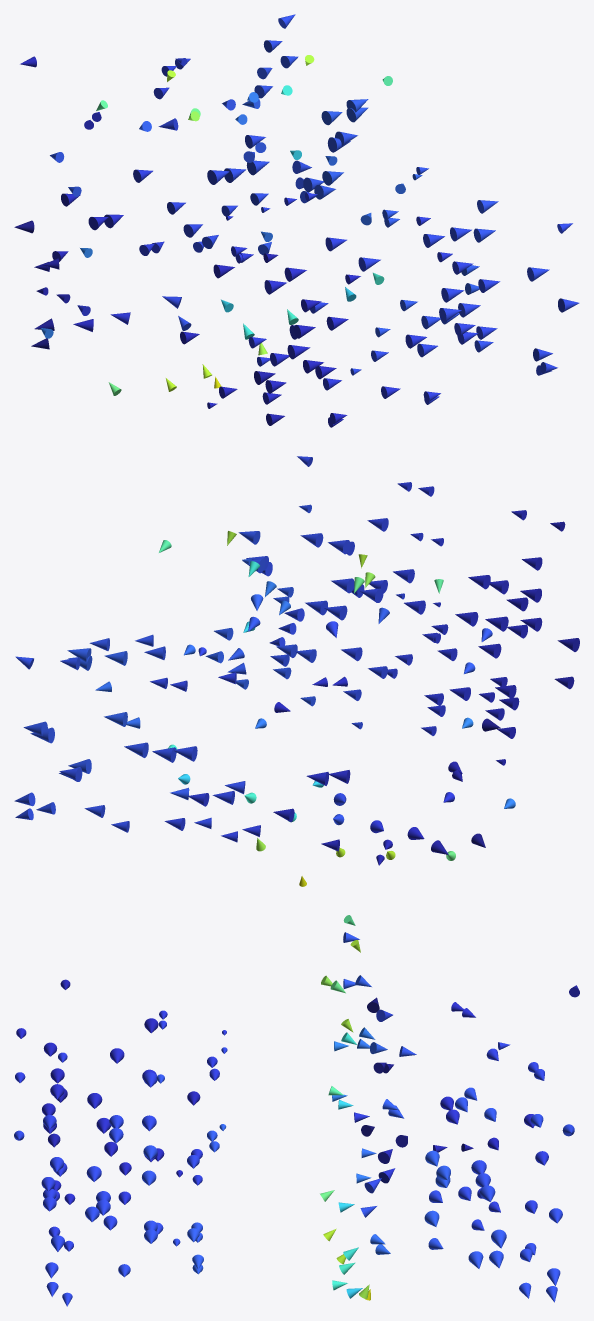
Rendered from LineasCorrienteN2-H2O_mh2-8.20_V-1.1.glb.
3 renders of one model, top to bottom at view 1: azimuth 30°, elevation 25°; view 2: azimuth 150°, elevation 25°; view 3: azimuth 270°, elevation 25°, orthographic. The views are drawn at different scales.
Bounding box in the file's own units: 0.00101 × 0.00079 × 0.00122.
Materials: 2 (2 with a texture image).
